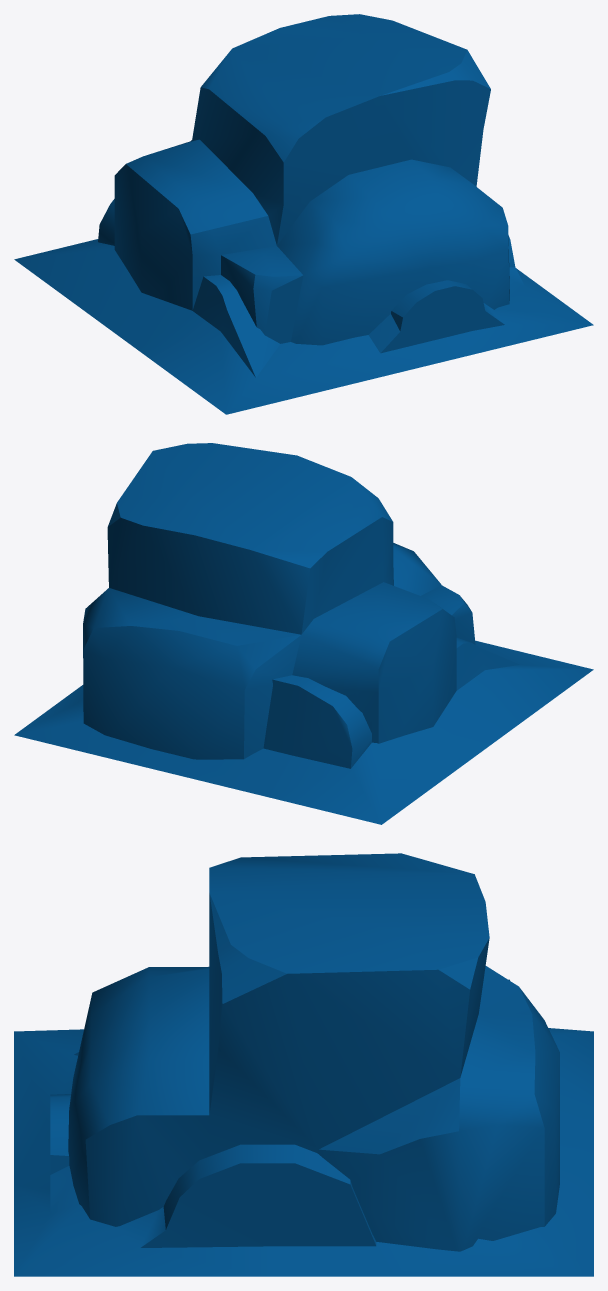
File: FOL_Leaf_02.FBX
3 renders of one model, top to bottom at view 1: azimuth 30°, elevation 25°; view 2: azimuth 150°, elevation 25°; view 3: azimuth 270°, elevation 25°, orthographic. The views are drawn at different scales.
Parts seen in each view (by area): view 1: FOL_Leaf_02; view 2: FOL_Leaf_02; view 3: FOL_Leaf_02.
Part boxes in pixels (<box>): FOL_Leaf_02: <box>14,14,593,414</box>; FOL_Leaf_02: <box>14,443,593,824</box>; FOL_Leaf_02: <box>14,853,593,1276</box>.
Bounding box in the file's own units: 6 × 3.3 × 6.
